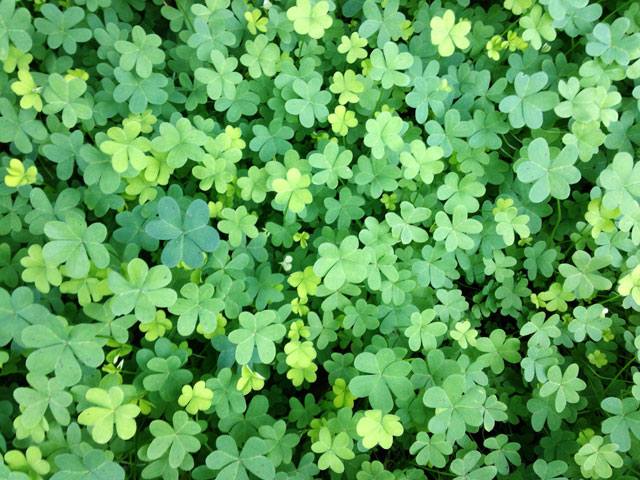oxalis: (7, 6, 640, 468)
